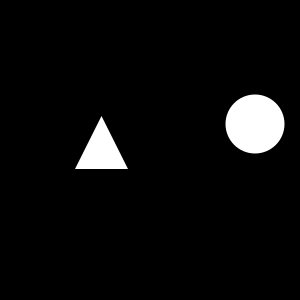rectangle: (226, 94, 284, 154)
triangle: (75, 116, 128, 169)
